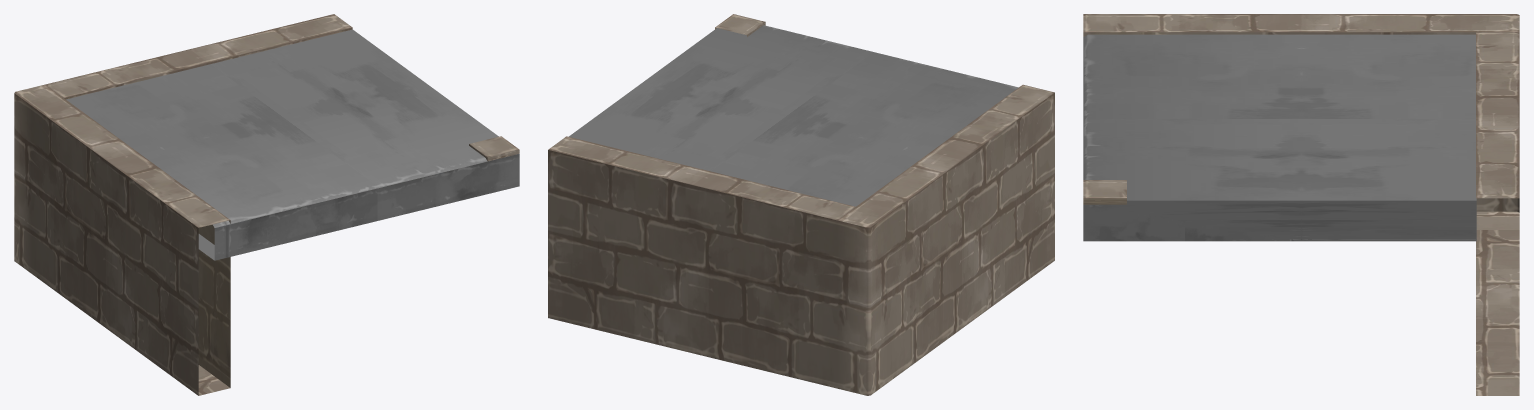
The model's file is Stairs_Exterior_Platform45.gltf.
The picture shows the model from 3 angles, left to right: view 1: azimuth 30°, elevation 25°; view 2: azimuth 150°, elevation 25°; view 3: azimuth 270°, elevation 25°; orthographic projection. The views are drawn at different scales.
Parts seen in each view (by area): view 1: Stairs_Exterior_Platform45; view 2: Stairs_Exterior_Platform45; view 3: Stairs_Exterior_Platform45.
Boxes of the visible parts, left/top/right/bottom form: Stairs_Exterior_Platform45: left=14, top=14, right=519, bottom=395; Stairs_Exterior_Platform45: left=548, top=14, right=1054, bottom=395; Stairs_Exterior_Platform45: left=1083, top=14, right=1519, bottom=395.
Size of the model in its own units: 2 by 1 by 2.
2 materials, 2 textured.
